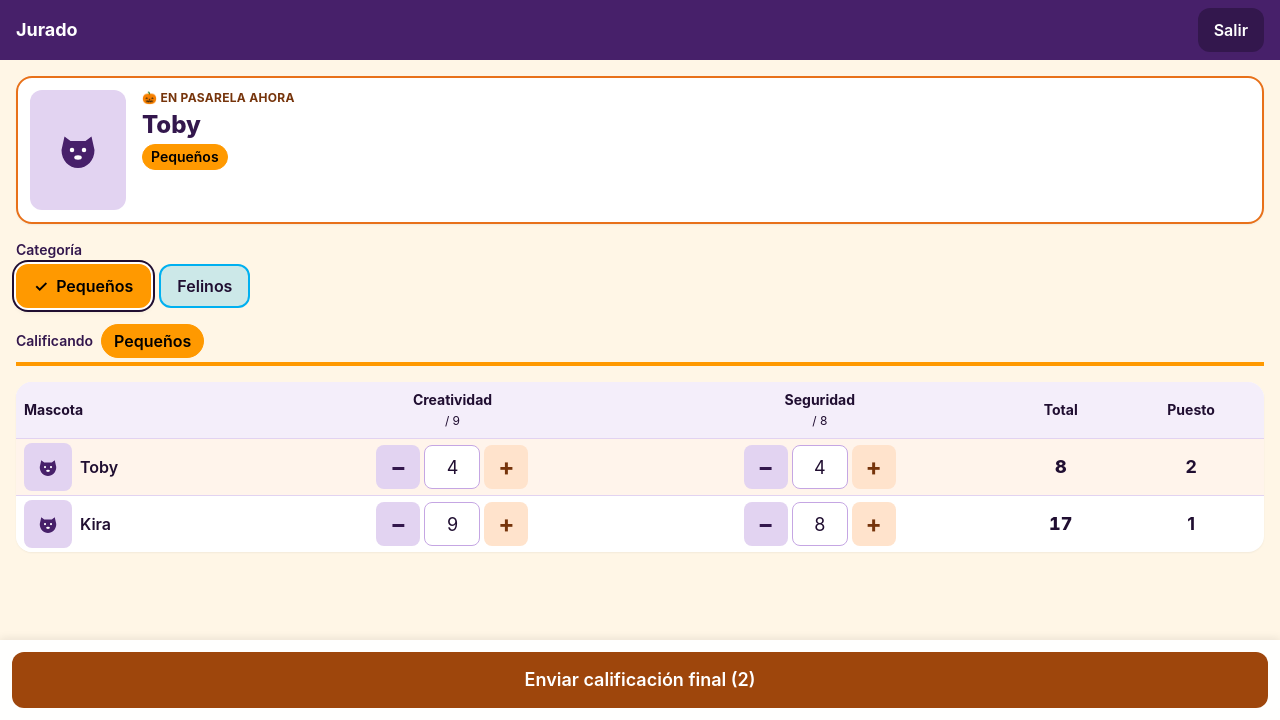
Test: SESION_CAMBIADA se muestra con un mensaje claro
This screenshot has width=1280, height=720.
Click the button with test id "enviar-final" at (640, 680), box [12,652,1268,708]
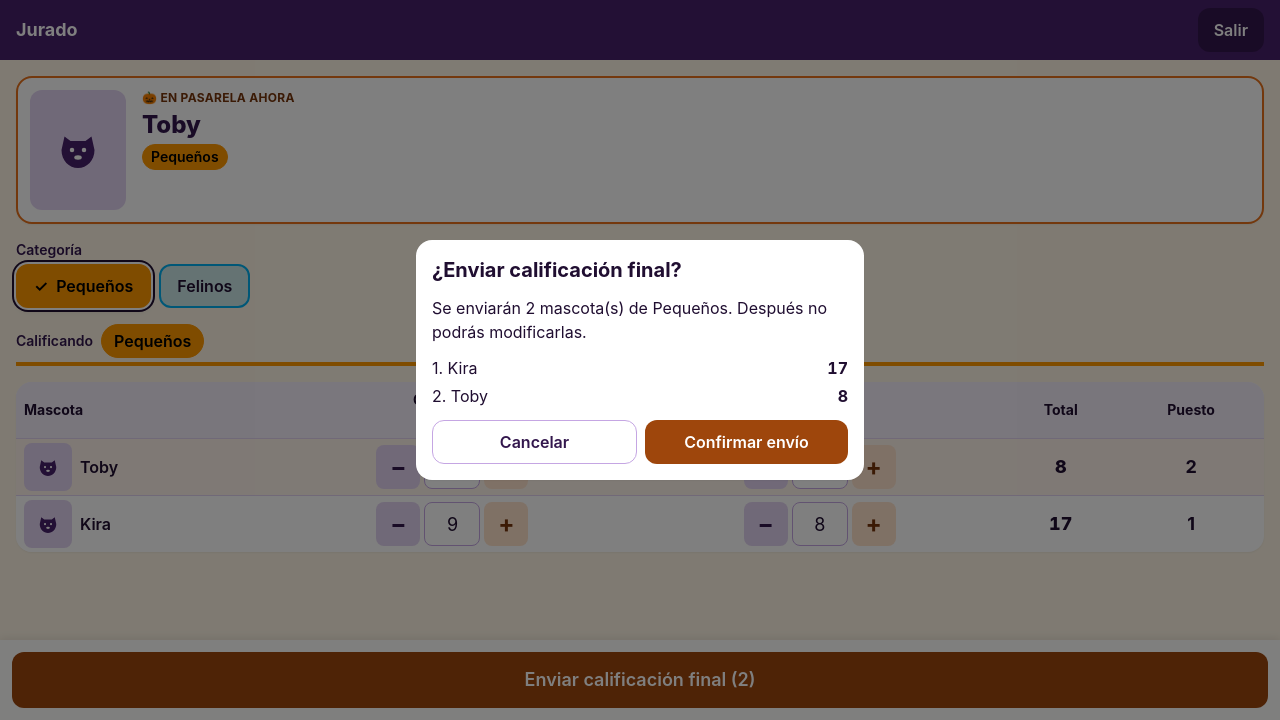
Click the button with test id "confirmar-final" at (746, 442), box [645,420,848,464]
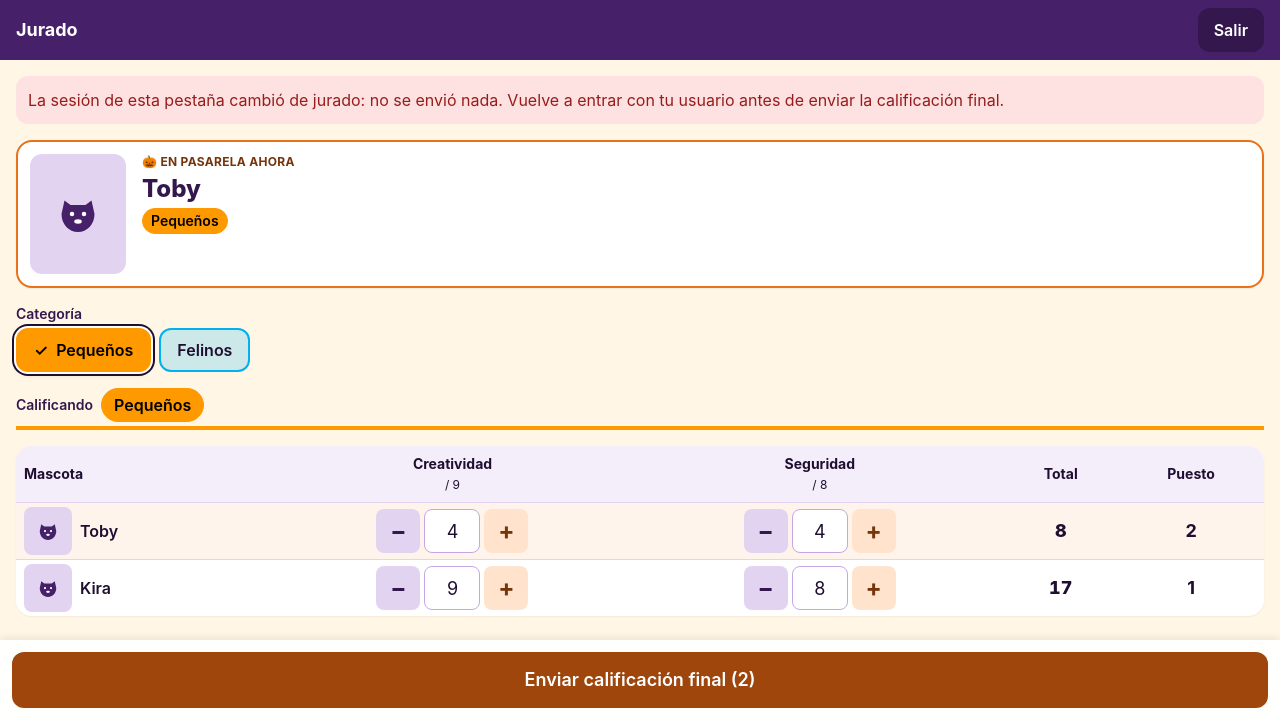
Check: the message with test id "error" shows "cambió de jurado", box [28,90,1004,110]
Check: the message with test id "error" shows "Vuelve a entrar", box [28,90,1004,110]
